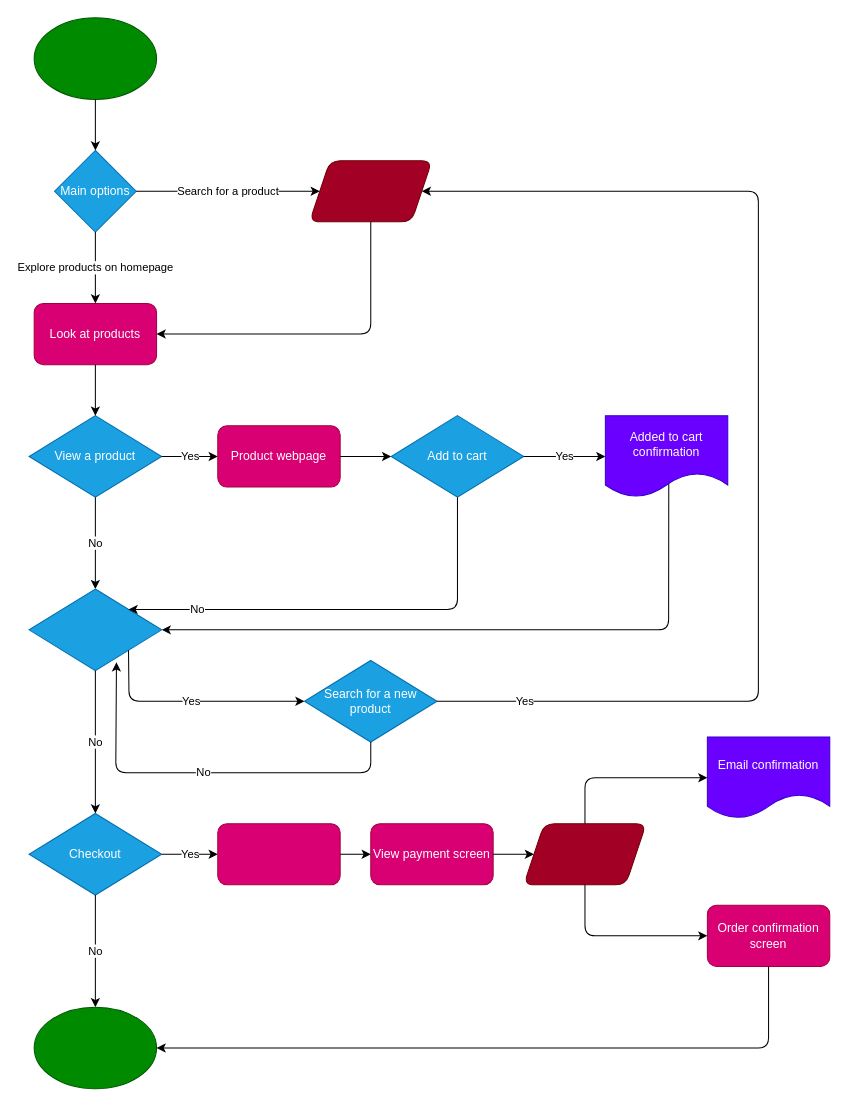
Image size: 848x1107. Some labels were removed from this diagram. Each missing label, with the centre of its shape:
"Continue shopping" belongs at point 95,629.
"Enter website" belongs at point 95,58.
"Leave website" belongs at point 95,1047.
"Payment information" belongs at point 584,854.
"Search input" belongs at point 370,191.
"View cart screen" belongs at point 278,854.
